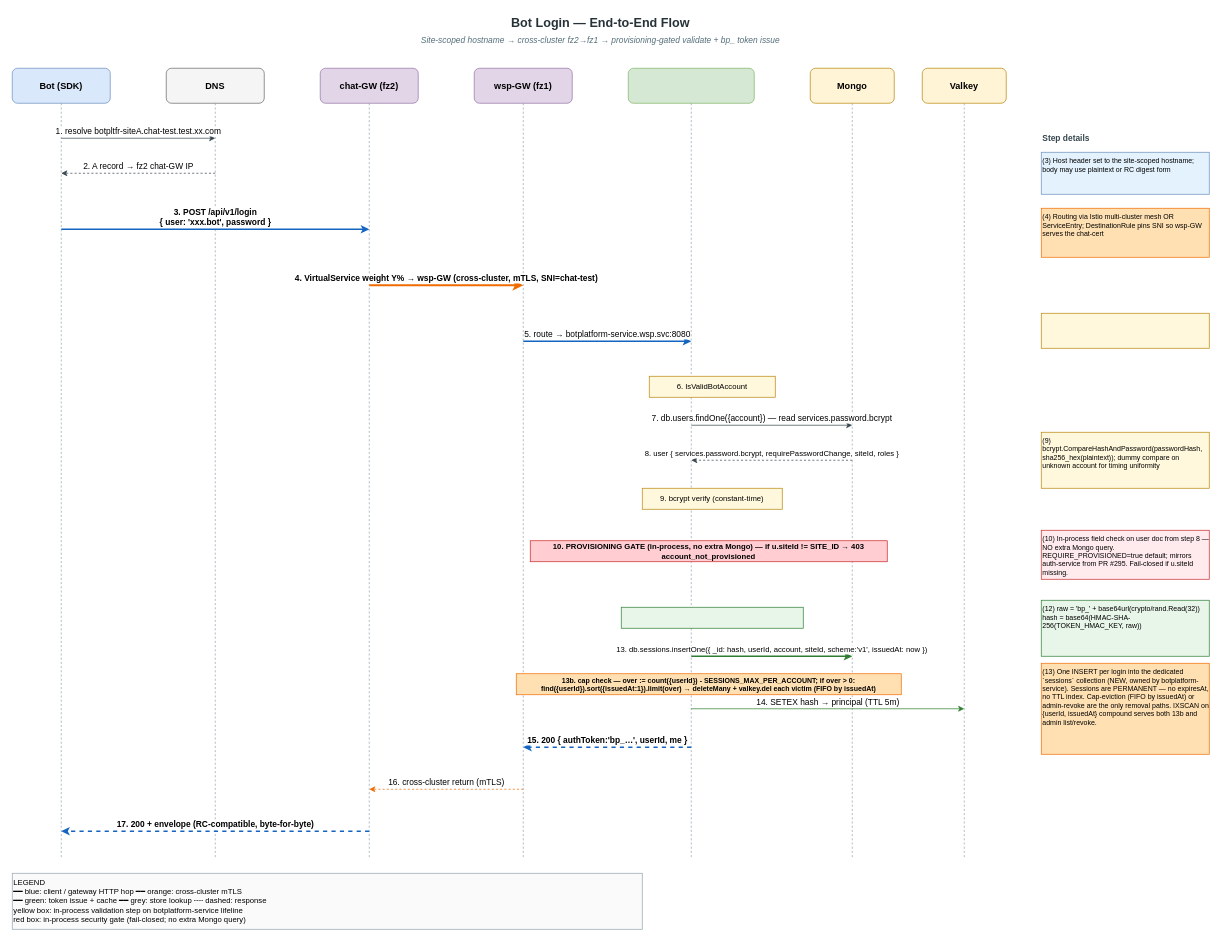
Some shapes in this 1222 by 942 pixel diagram are drawn without their labels. Here are the shapes that lost their labels. From the top down, the box of each, then its label:
(628, 68, 754, 103): botplatform-service
(1041, 313, 1209, 348): (6) IsValidBotAccount allows ^[A-Za-z0-9_-]+\.bot$ (xxx.bot, yyy.bot)
(621, 607, 803, 628): 12. issue v1 token (bp_ + HMAC-SHA-256)
